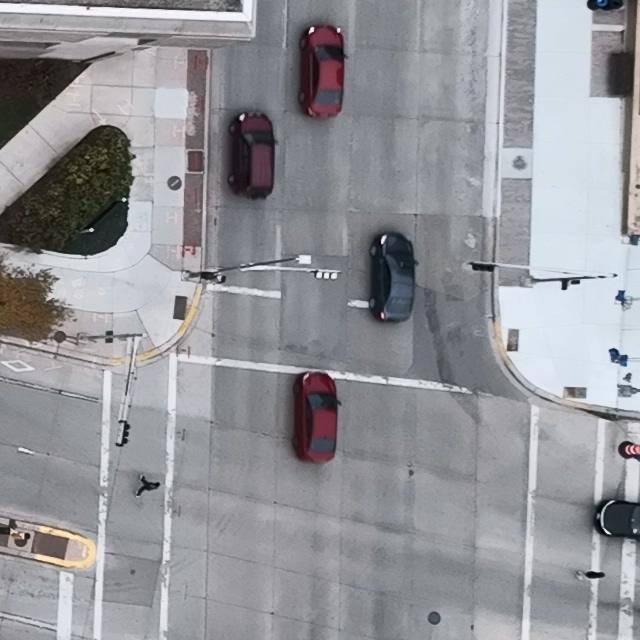car: (298, 25, 348, 120), (292, 372, 342, 464), (370, 232, 420, 323), (227, 112, 278, 199), (594, 498, 640, 541)
